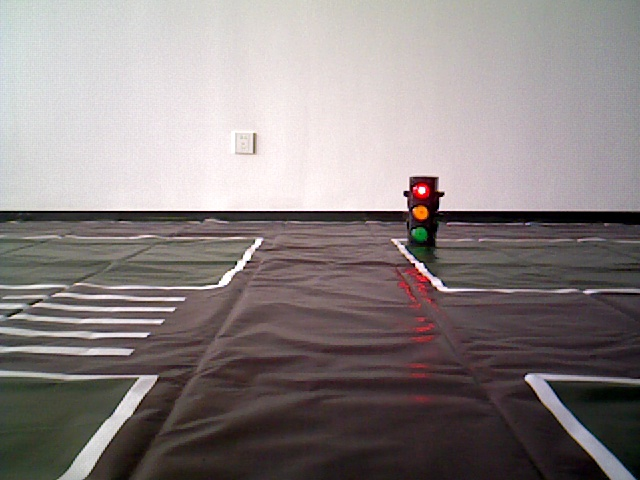red: (410, 178, 434, 247)
